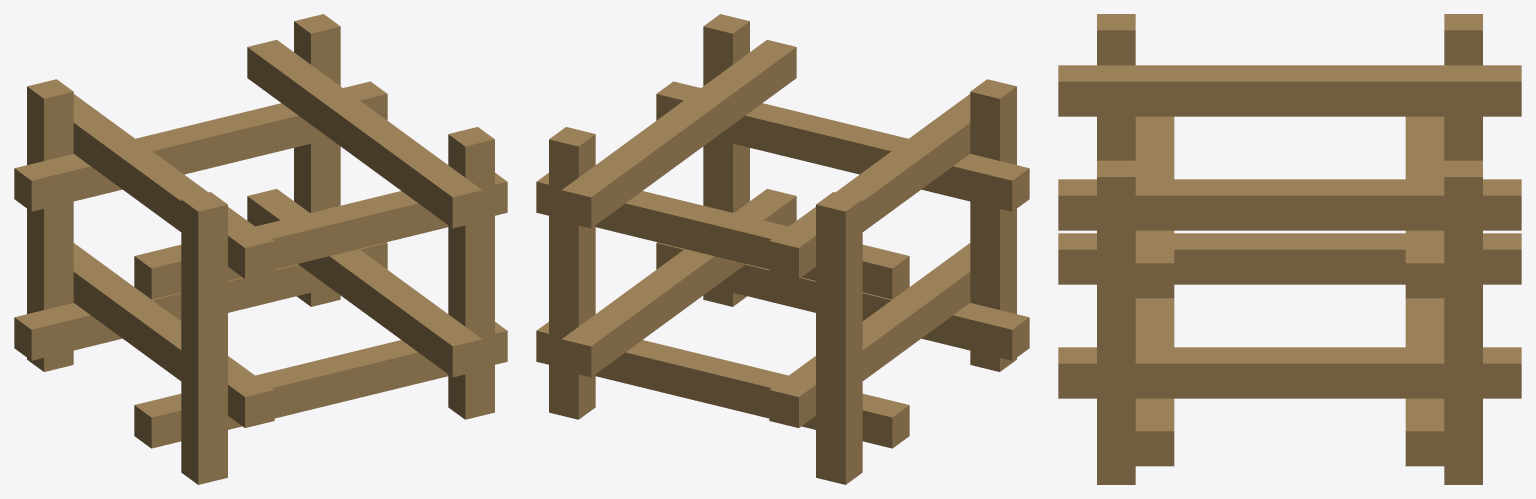
Rendered from Wood_Scaffolding_01.obj.
The picture shows the model from 3 angles, left to right: view 1: azimuth 30°, elevation 25°; view 2: azimuth 150°, elevation 25°; view 3: azimuth 270°, elevation 25°; orthographic projection. The views are drawn at different scales.
Visible parts, largest first — view 1: Plane; view 2: Plane; view 3: Plane.
Part boxes in pixels (box(x1,y1,x2,y2)): Plane: box(14, 14, 507, 484); Plane: box(536, 14, 1029, 484); Plane: box(1058, 14, 1521, 484).
Size of the model in its own units: 3 by 2.2 by 3.
